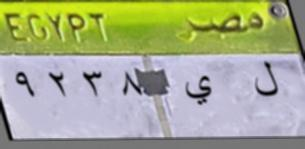2: (46, 67, 70, 101)
3: (78, 68, 106, 100)
8: (119, 68, 142, 103)
9: (13, 70, 40, 101)
laam: (246, 58, 280, 104)
yaa: (183, 72, 217, 112)
